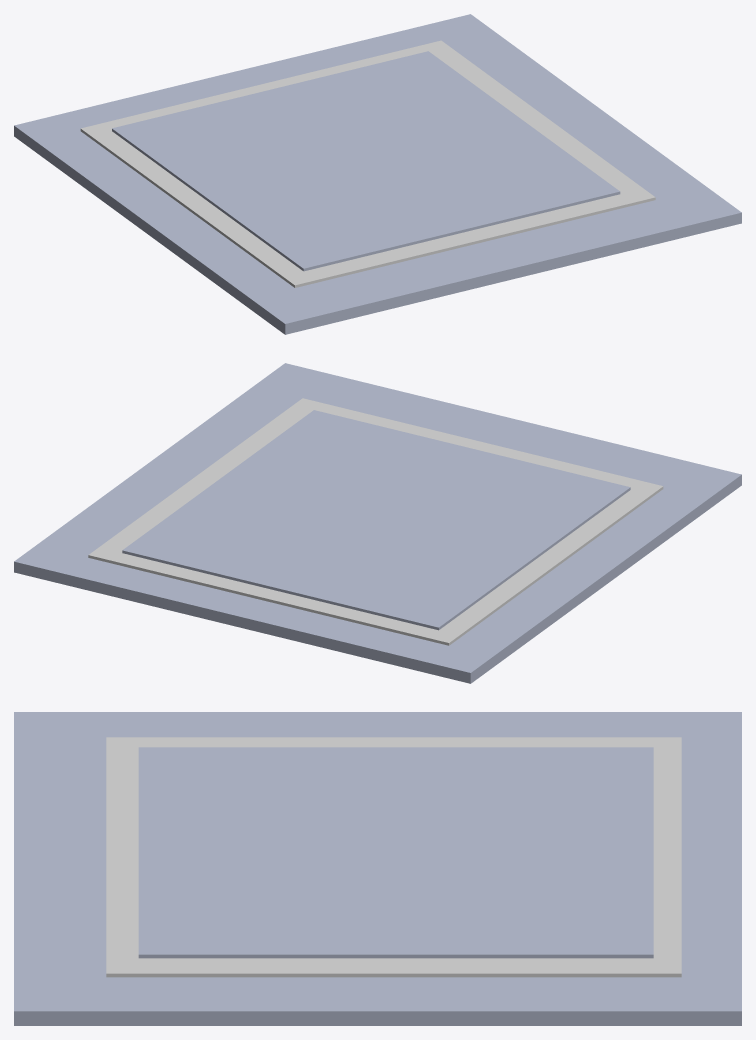
Rendered from floor.glb.
The picture shows the model from 3 angles, top to bottom: view 1: azimuth 30°, elevation 25°; view 2: azimuth 150°, elevation 25°; view 3: azimuth 270°, elevation 25°; orthographic projection. The views are drawn at different scales.
Parts seen in each view (by area): view 1: Mesh_Mesh_head_geo.001_lambert2SG.001; view 2: Mesh_Mesh_head_geo.001_lambert2SG.001; view 3: Mesh_Mesh_head_geo.001_lambert2SG.001.
Boxes of the visible parts, x1,y1,x2,y2 form: Mesh_Mesh_head_geo.001_lambert2SG.001: (14,14,741,334); Mesh_Mesh_head_geo.001_lambert2SG.001: (14,363,741,683); Mesh_Mesh_head_geo.001_lambert2SG.001: (14,712,741,1025).
Bounding box in the file's own units: 176 × 6 × 181.
